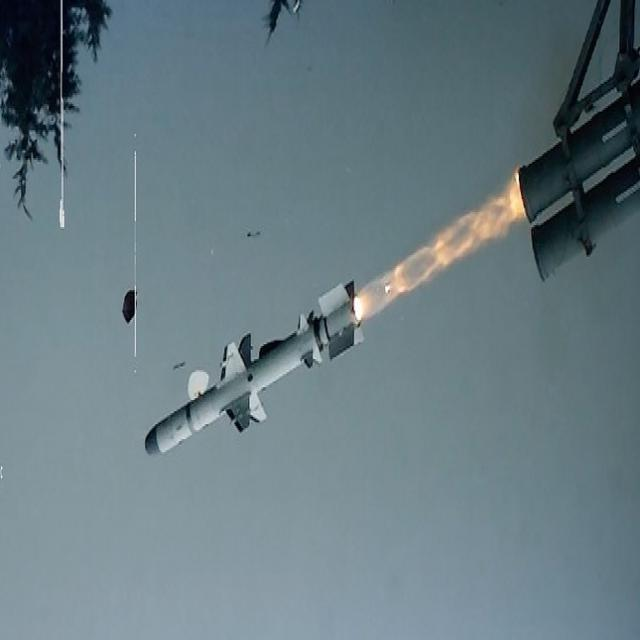missile: (140, 282, 370, 464)
